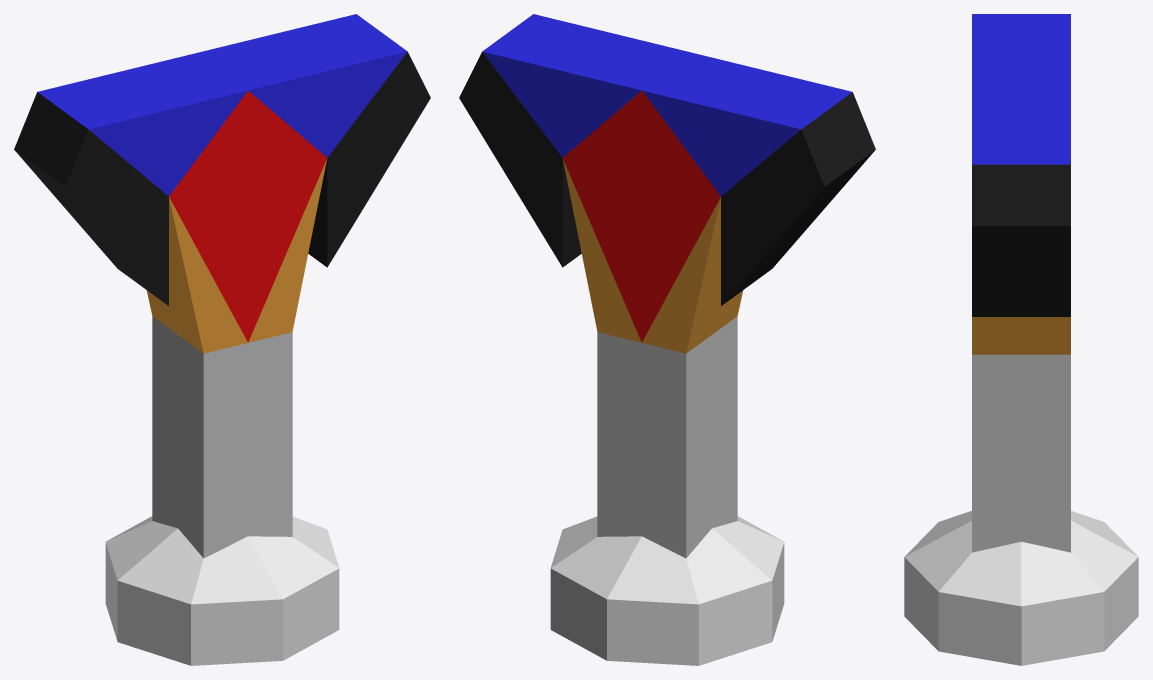
The model's file is PlayerBody.glb.
3 renders of one model, left to right at view 1: azimuth 30°, elevation 25°; view 2: azimuth 150°, elevation 25°; view 3: azimuth 270°, elevation 25°, orthographic. The views are drawn at different scales.
Parts seen in each view (by area): view 1: Plane, Circle; view 2: Plane, Circle; view 3: Plane, Circle.
Boxes of the visible parts, <box> form: Plane: <box>14,14,430,558</box>; Circle: <box>105,516,339,665</box>; Plane: <box>459,14,875,558</box>; Circle: <box>550,516,784,665</box>; Plane: <box>972,14,1070,552</box>; Circle: <box>904,511,1138,665</box>.
Size of the model in its own units: 3.49 by 4.96 by 2.
